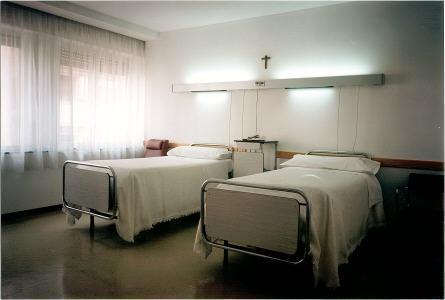Cama: (189, 156, 380, 279), (62, 141, 233, 236)
Ventana: (56, 42, 138, 142)
